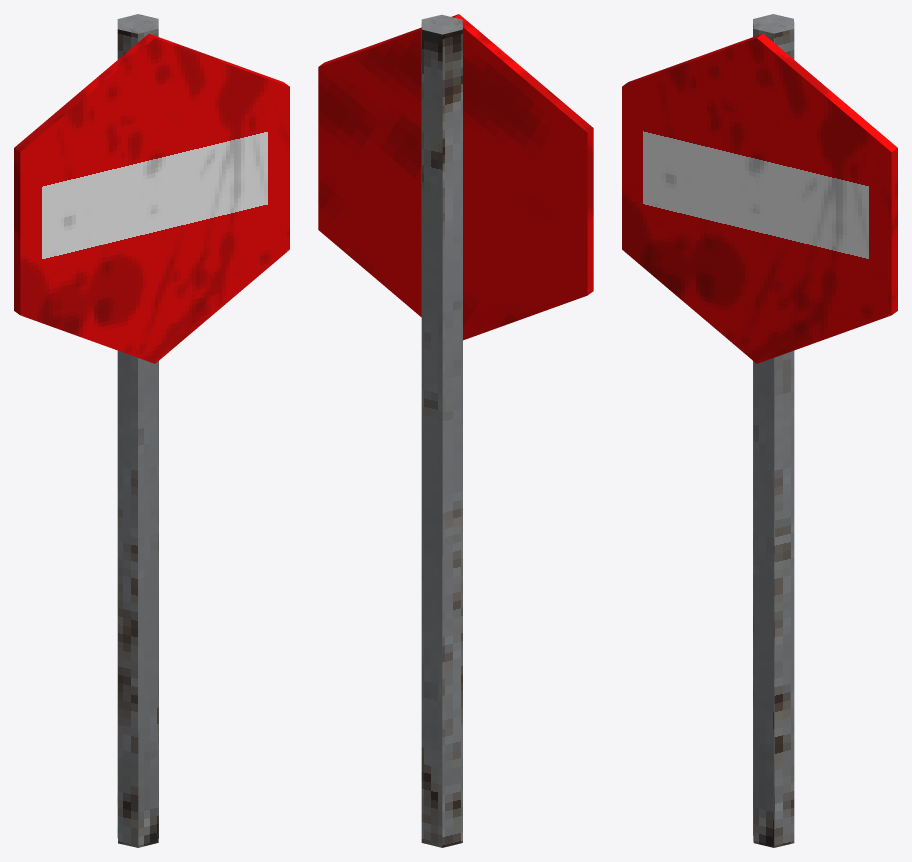
Rendered from sign.glb.
3 renders of one model, left to right at view 1: azimuth 30°, elevation 25°; view 2: azimuth 150°, elevation 25°; view 3: azimuth 330°, elevation 25°, orthographic.
Parts seen in each view (by area): view 1: Cylinder; view 2: Cylinder; view 3: Cylinder.
Boxes of the visible parts, x1,y1,x2,y2 form: Cylinder: (14, 14, 289, 847); Cylinder: (318, 14, 593, 847); Cylinder: (622, 14, 897, 847).
Bounding box in the file's own units: 1.73 × 5 × 0.3017.
Materials: 1 (1 with a texture image).
